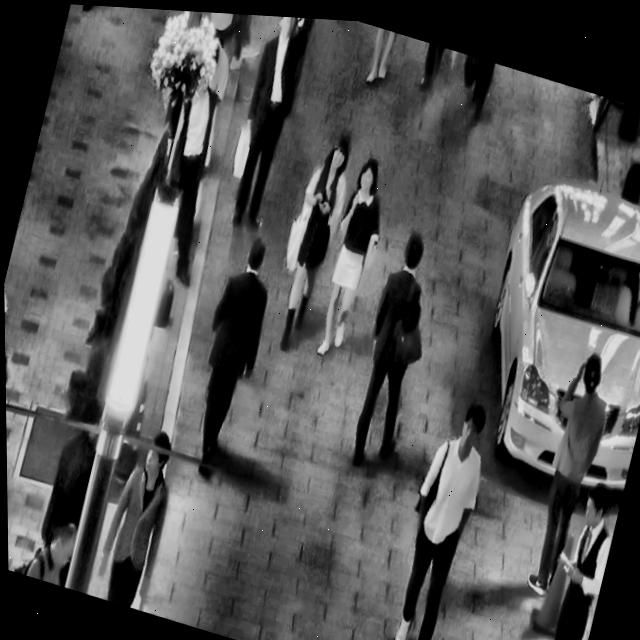light_vehicle: (446, 137, 640, 502)
